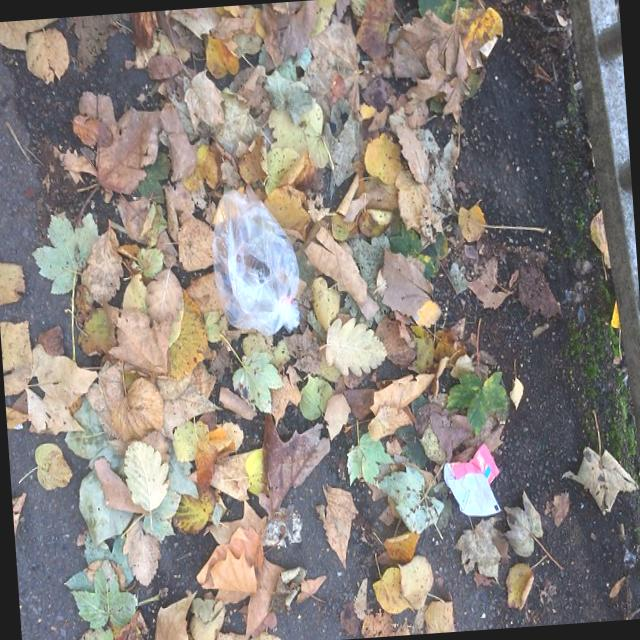Recycle: (210, 184, 304, 346)
Trash: (438, 448, 508, 526)
